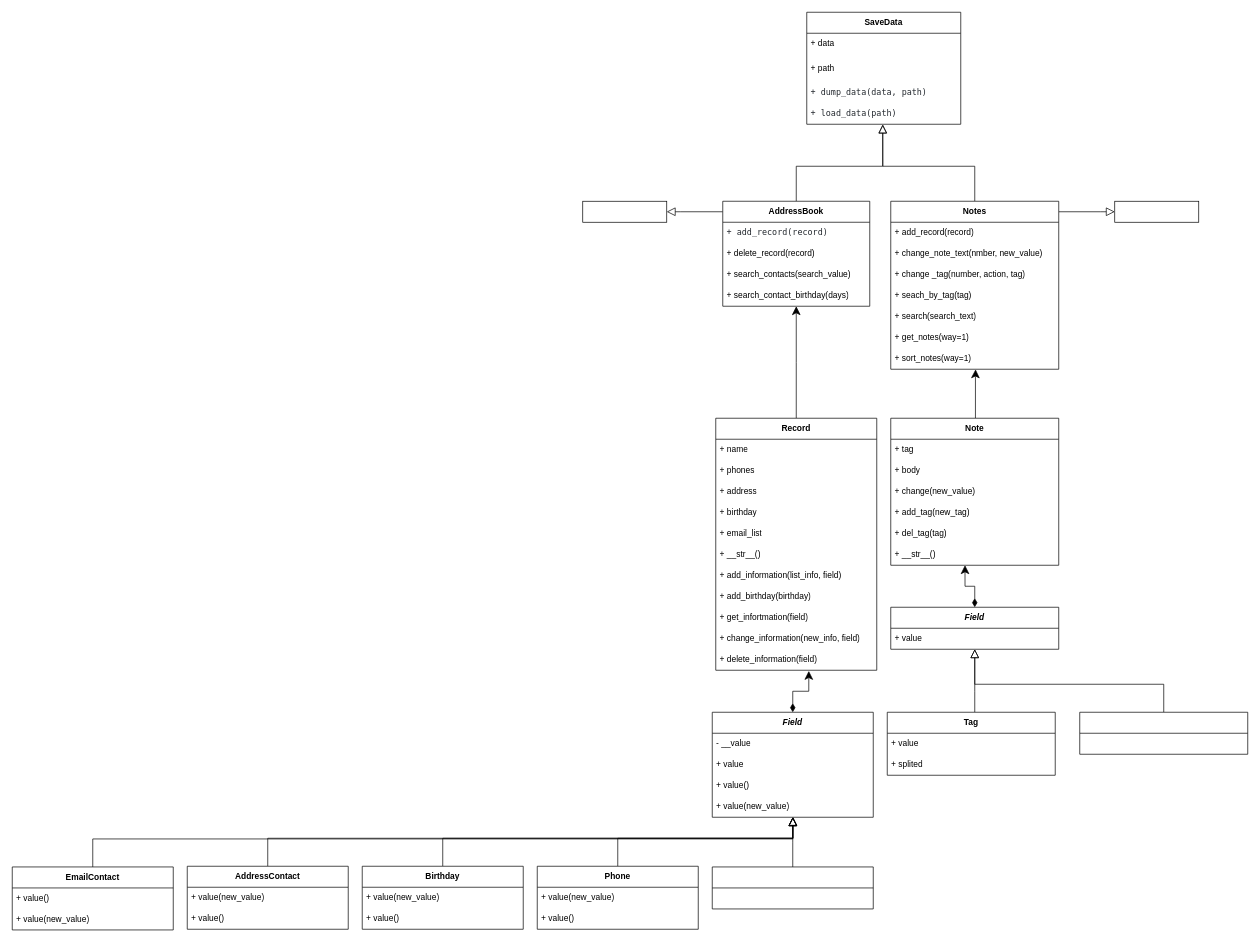
The diagram is 1260 pixels wide and 942 high, and some of its shapes have lost their labels. Each missing label, with the centre of its shape:
Body: the point at 1163,733
Name: the point at 792,887
UserDict: the point at 624,211
UserList: the point at 1156,211
